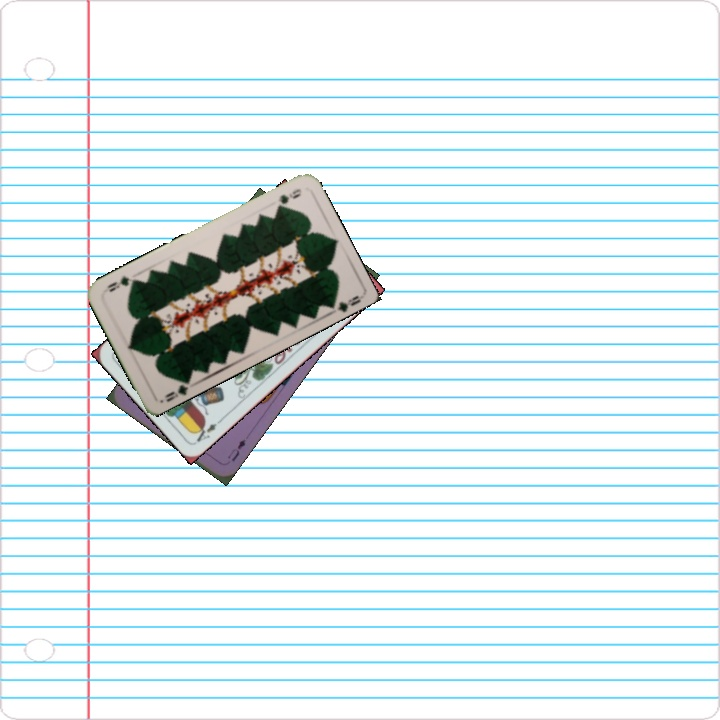EA: (189, 414, 225, 445)
EU: (223, 435, 248, 464)
G9: (160, 375, 192, 405), (271, 184, 304, 212)
